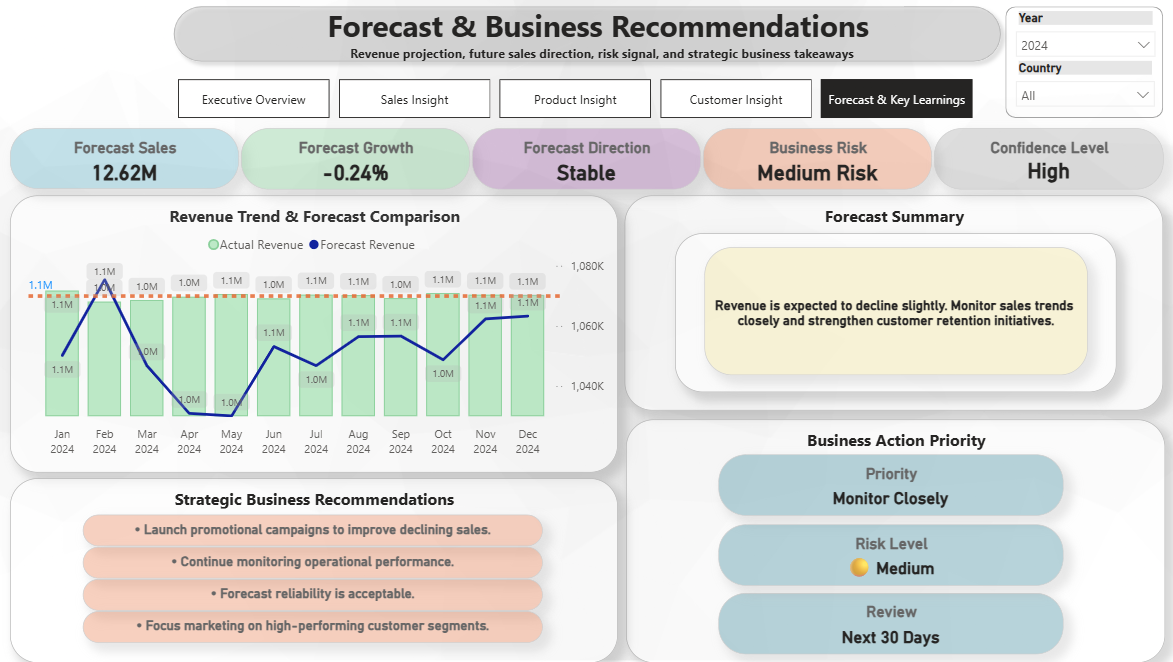

What the dashboard file says about the page in this screenshot:
{"tool":"powerbi","page":{"name":"Forecast & Key Learnings","canvas":[1280,720],"ordinal":4},"visuals":[{"type":"shape","box":[183.8,0,913.2,77.9],"z":0},{"type":"textbox","box":[330,2.9,651.2,106.1],"z":1000},{"type":"pageNavigator","box":[197,88,864.7,42.4],"z":2000},{"type":"shape","title":"Forecast Summary ","box":[680,213.8,582.5,232.5],"z":3000},{"type":"shape","title":"Market Leadership Insight","box":[734.3,254.3,477.6,172.4],"z":4000},{"type":"lineClusteredColumnComboChart","title":"Revenue Trend & Forecast Comparison","fields":{"Category":["Dim Date.Month Year"],"Y":["Measure Table.Actual Revenue"],"Y2":["Measure Table.Forecast Revenue"]},"box":[15,213.3,658,300],"z":5000},{"type":"card","title":" Forecast Sales ","fields":{"Values":["Measure Table.Forecast Sales"]},"box":[15,141.4,248,66],"z":6000},{"type":"card","title":"Forecast Growth","fields":{"Values":["Measure Table.Forecast Growth %"]},"box":[265,141,248,66.7],"z":7000},{"type":"card","title":"Forecast Direction","fields":{"Values":["Measure Table.Forecast Direction"]},"box":[515.7,141.4,248,66.7],"z":8000},{"type":"card","title":"Business Risk","fields":{"Values":["Measure Table.Business Risk"]},"box":[765.7,141,248,66.7],"z":9000},{"type":"card","title":"Confidence Level","fields":{"Values":["Measure Table.Confidence Level"]},"box":[1015.7,141.4,248.9,66.7],"z":10000},{"type":"slicer","fields":{"Values":["Dim Country.Country"]},"box":[1094.2,65,170,56.7],"z":11000},{"type":"slicer","fields":{"Values":["Dim Date.Year"]},"box":[1093.3,9.2,170.8,61.7],"z":12000},{"type":"shape","box":[1092.9,9.3,170.7,120.7],"z":13000},{"type":"shape","title":"Business Action Priority ","box":[681.2,456.2,583.8,263.8],"z":14000},{"type":"shape","title":"Strategic Business Recommendations","box":[15.2,519.7,657.6,200],"z":15000},{"type":"card","title":" Forecast Sales ","fields":{"Values":["Measure Table.Recommendation 1"]},"box":[94.6,559.2,497.9,34.3],"z":16000},{"type":"card","title":" Forecast Sales ","fields":{"Values":["Measure Table.Recommendation 2"]},"box":[94.6,593.8,497.9,34.3],"z":17000},{"type":"card","title":" Forecast Sales ","fields":{"Values":["Measure Table.Recommendation 3"]},"box":[93.8,628.5,497.9,34.3],"z":18000},{"type":"card","title":" Forecast Sales ","fields":{"Values":["Measure Table.Recommendation 4"]},"box":[93.8,663.1,497.9,34.3],"z":19000},{"type":"card","title":"Business Risk","fields":{"Values":["Measure Table.Forecast Summary"]},"box":[766.7,270,415,138.8],"z":20000},{"type":"card","title":"Priority","fields":{"Values":["Measure Table.Action Priority"]},"box":[781.7,493.3,373.3,66.7],"z":21000},{"type":"card","title":"Review","fields":{"Values":["Measure Table.Next Review Period"]},"box":[781.7,643.3,373.3,66.7],"z":22000},{"type":"card","title":"Risk Level","fields":{"Values":["Measure Table.Priority Color"]},"box":[781.7,569,373.3,66.7],"z":23000}]}

Visuals, with their boxes in screenshot pixels (x1, y1, x2, y2), scaled from the page's 1280x720 canvas onto the 1173x662 screenshot:
shape: 168:0:1005:72
textbox: 302:3:899:100
pageNavigator: 181:81:973:120
"Forecast Summary " shape: 623:197:1157:410
"Market Leadership Insight" shape: 673:234:1111:392
"Revenue Trend & Forecast Comparison" lineClusteredColumnComboChart: 14:196:617:472
" Forecast Sales " card: 14:130:241:191
"Forecast Growth" card: 243:130:470:191
"Forecast Direction" card: 473:130:700:191
"Business Risk" card: 702:130:929:191
"Confidence Level" card: 931:130:1159:191
slicer - Dim Country.Country: 1003:60:1159:112
slicer - Dim Date.Year: 1002:8:1158:65
shape: 1002:9:1158:120
"Business Action Priority " shape: 624:419:1159:661
"Strategic Business Recommendations" shape: 14:478:617:661
" Forecast Sales " card: 87:514:543:546
" Forecast Sales " card: 87:546:543:578
" Forecast Sales " card: 86:578:542:609
" Forecast Sales " card: 86:610:542:641
"Business Risk" card: 703:248:1083:376
"Priority" card: 716:454:1058:515
"Review" card: 716:591:1058:653
"Risk Level" card: 716:523:1058:584
